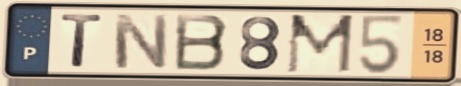5: (357, 13, 406, 77)
8: (237, 14, 283, 72)
B: (172, 12, 232, 73)
M: (284, 12, 357, 76)
N: (110, 12, 170, 71)
T: (58, 12, 106, 70)
